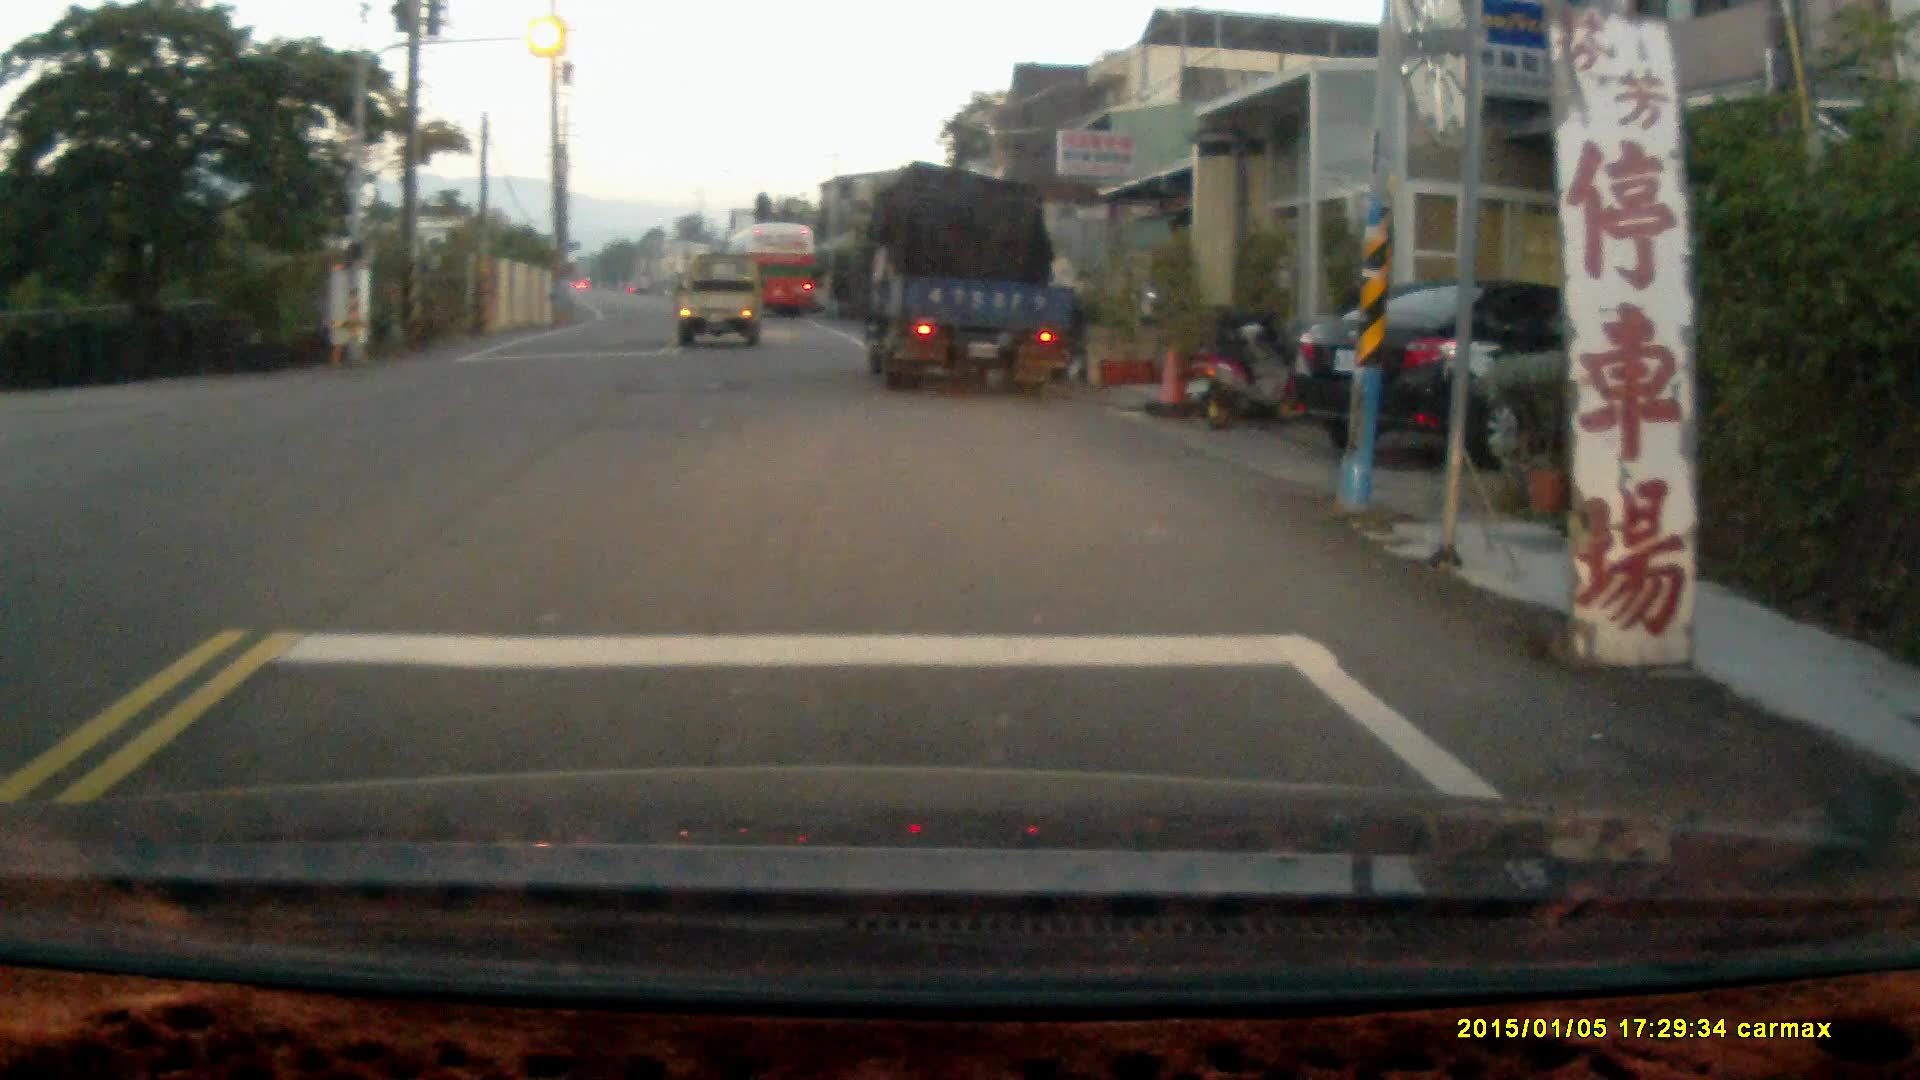vehicle: (1284, 284, 1722, 473), (869, 174, 1087, 392), (729, 225, 823, 327), (679, 256, 769, 345)
